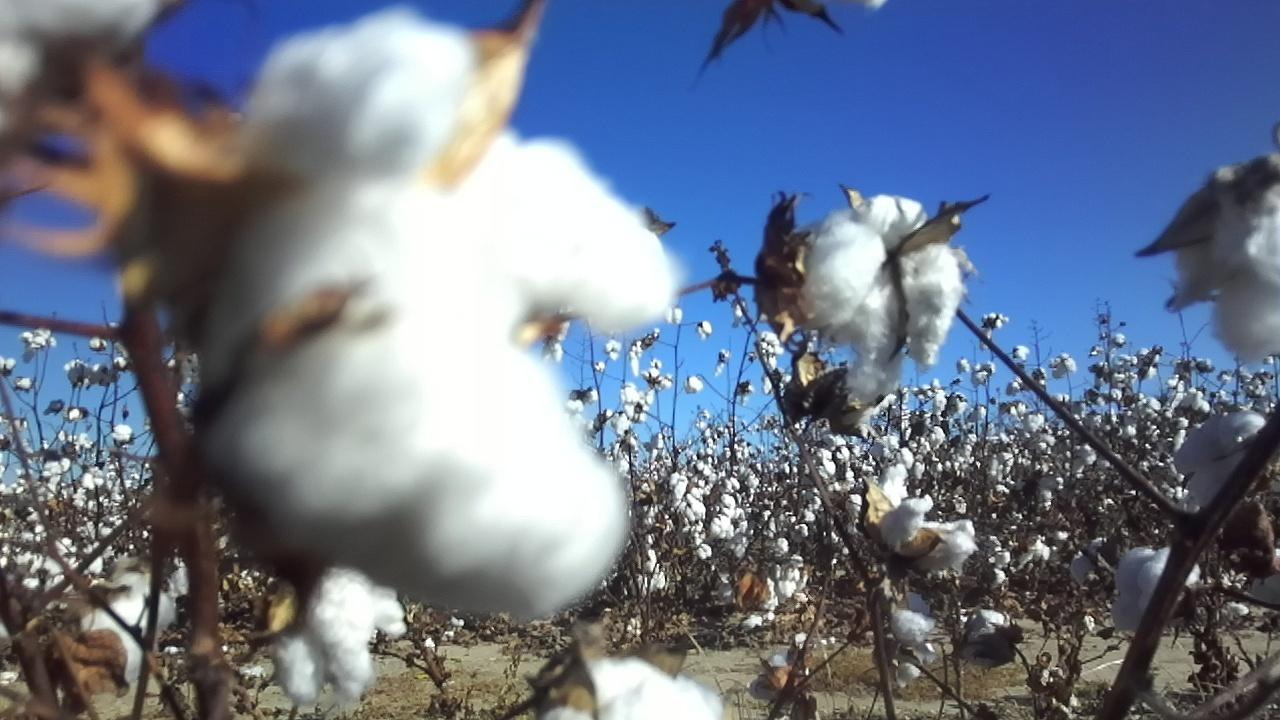cotton_ready: (204, 9, 682, 619), (809, 197, 964, 402), (0, 0, 160, 144), (1177, 177, 1280, 365), (279, 570, 408, 709), (877, 463, 979, 577), (548, 657, 729, 720), (83, 577, 179, 672), (1177, 414, 1273, 506), (1115, 547, 1201, 634)
